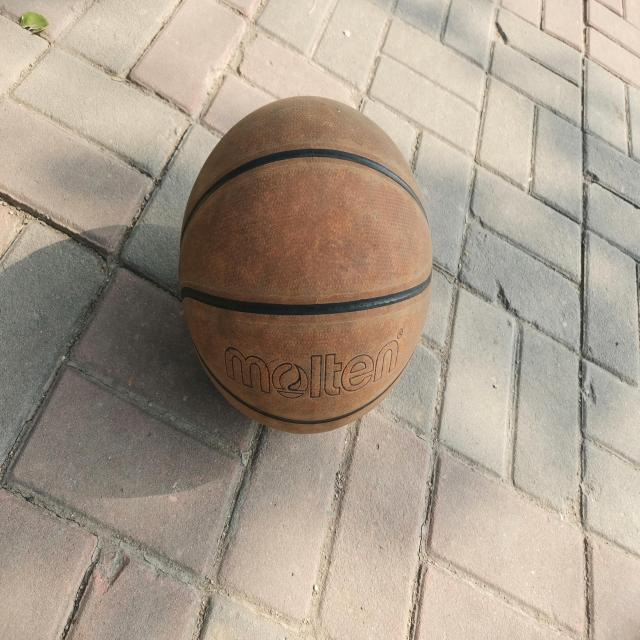ball: (180, 95, 432, 433)
